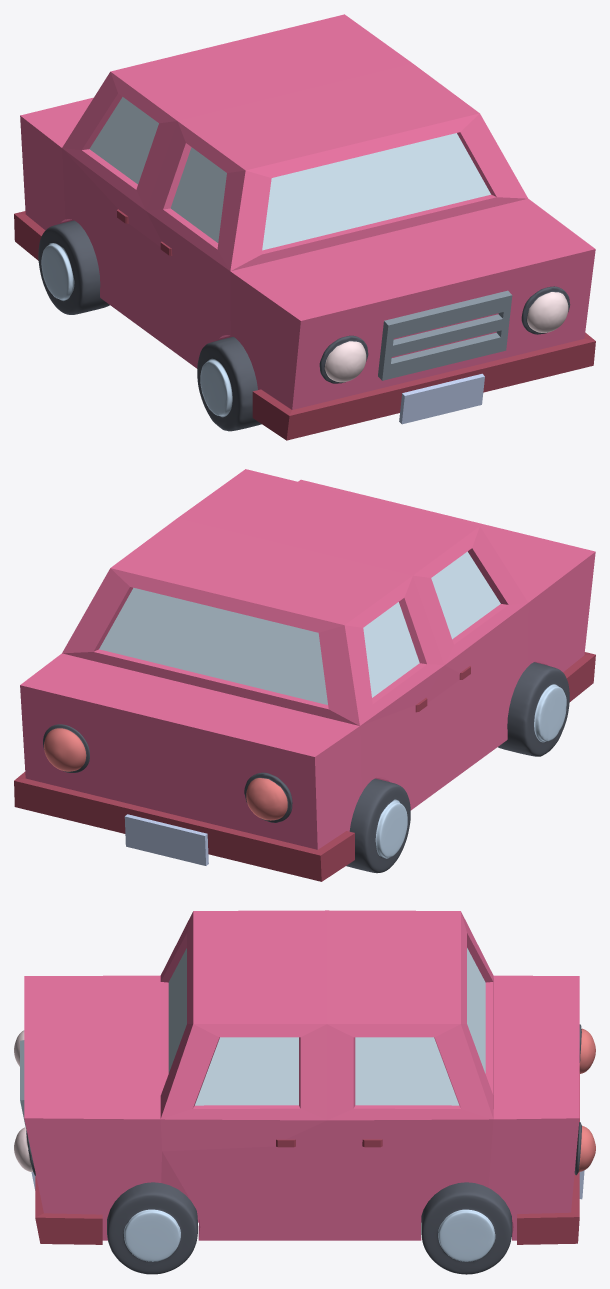
The model's file is pink_car-better.fbx.
The picture shows the model from 3 angles, top to bottom: view 1: azimuth 30°, elevation 25°; view 2: azimuth 150°, elevation 25°; view 3: azimuth 270°, elevation 25°; orthographic projection.
Parts seen in each view (by area): view 1: car, wheels, plate; view 2: car, wheels, plate; view 3: car, wheels, plate.
Boxes of the visible parts, box(x1,y1,x2,y2) form: car: box(14, 14, 595, 440); wheels: box(38, 220, 570, 431); plate: box(378, 290, 512, 424); car: box(14, 469, 595, 881); wheels: box(43, 662, 569, 873); plate: box(124, 814, 208, 865); car: box(24, 910, 579, 1244); wheels: box(14, 1024, 595, 1274); plate: box(20, 1040, 584, 1199).
Size of the model in its own units: 235 by 154 by 353.
